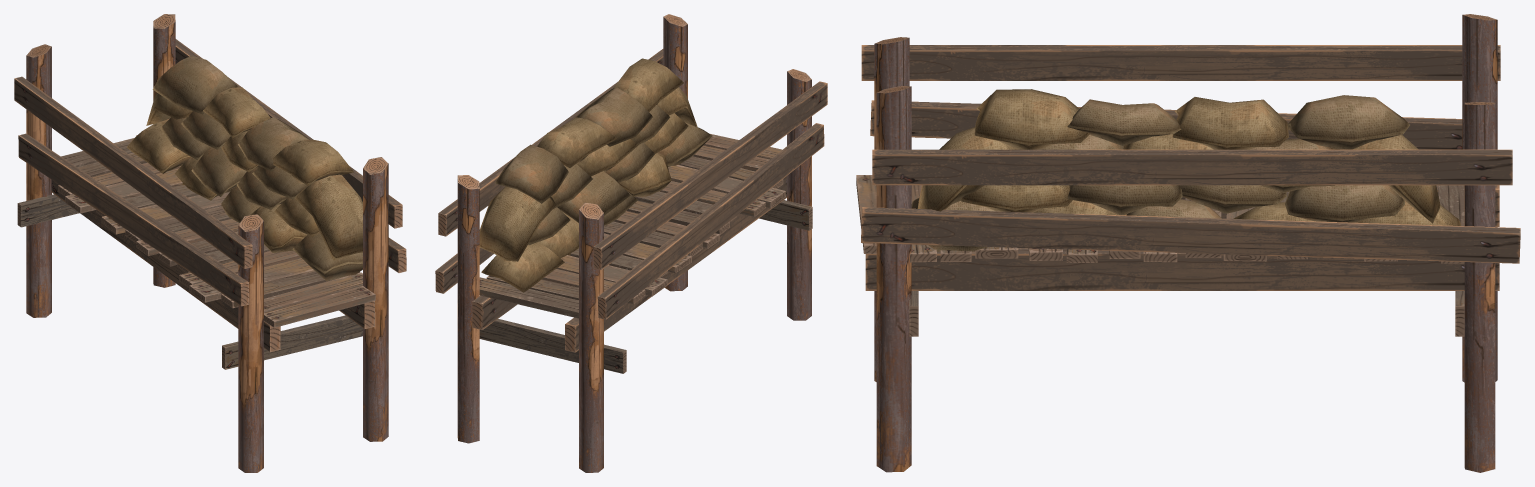
File: fenceWalk_gate_B.fbx
The picture shows the model from 3 angles, left to right: view 1: azimuth 30°, elevation 25°; view 2: azimuth 150°, elevation 25°; view 3: azimuth 270°, elevation 25°; orthographic projection. The views are drawn at different scales.
Parts seen in each view (by area): view 1: fenceWalk_gate_B; view 2: fenceWalk_gate_B; view 3: fenceWalk_gate_B.
Boxes of the visible parts, bbox=[...] form: fenceWalk_gate_B: bbox=[14, 14, 406, 472]; fenceWalk_gate_B: bbox=[435, 14, 827, 472]; fenceWalk_gate_B: bbox=[856, 14, 1520, 472].
Size of the model in its own units: 187 by 287 by 452.
